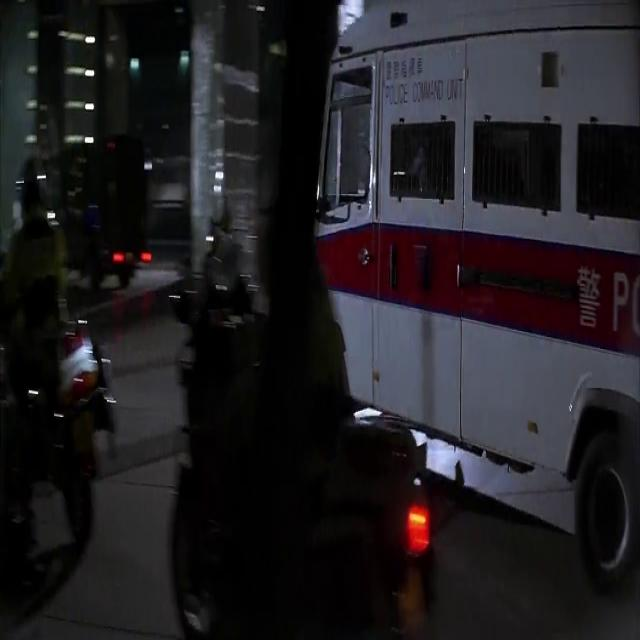Motorbike: (167, 229, 448, 634), (0, 248, 127, 486)
